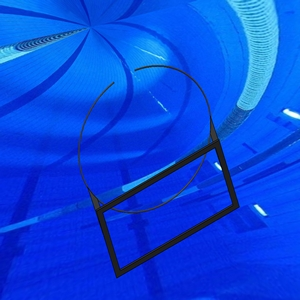circle: (77, 63, 241, 279)
